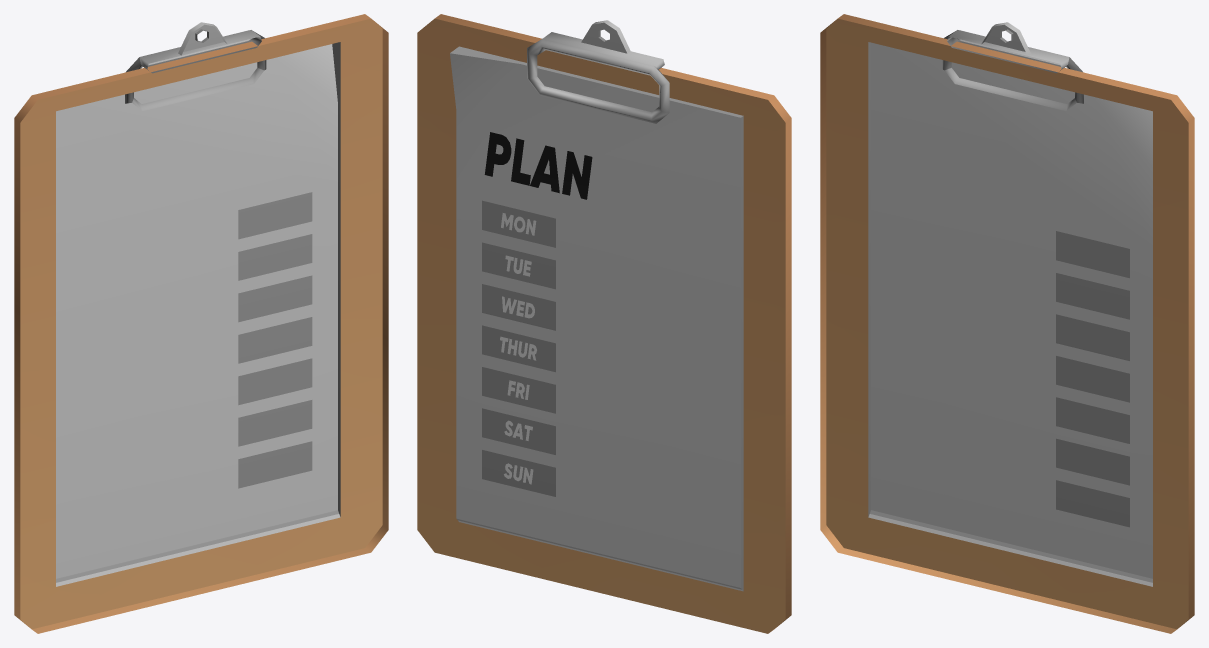
File: CR_MiniBoard_002.FBX
3 views of the same model, side by side, from view 1: azimuth 30°, elevation 25°; view 2: azimuth 150°, elevation 25°; view 3: azimuth 330°, elevation 25° (orthographic).
Parts seen in each view (by area): view 1: CR_MiniBoard_002; view 2: CR_MiniBoard_002; view 3: CR_MiniBoard_002.
Boxes of the visible parts, x1,y1,x2,y2 form: CR_MiniBoard_002: [14, 14, 388, 633]; CR_MiniBoard_002: [417, 14, 791, 633]; CR_MiniBoard_002: [820, 14, 1194, 633].
Size of the model in its own units: 33.14 by 48.89 by 2.42.
Materials: 1 (1 with a texture image).
